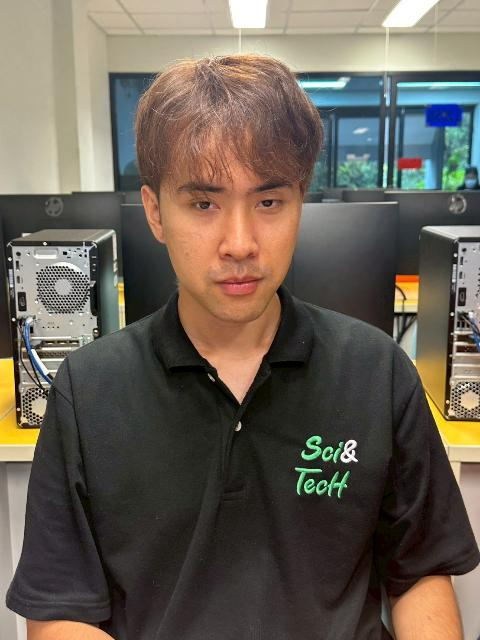fokus: (159, 117, 300, 318)
